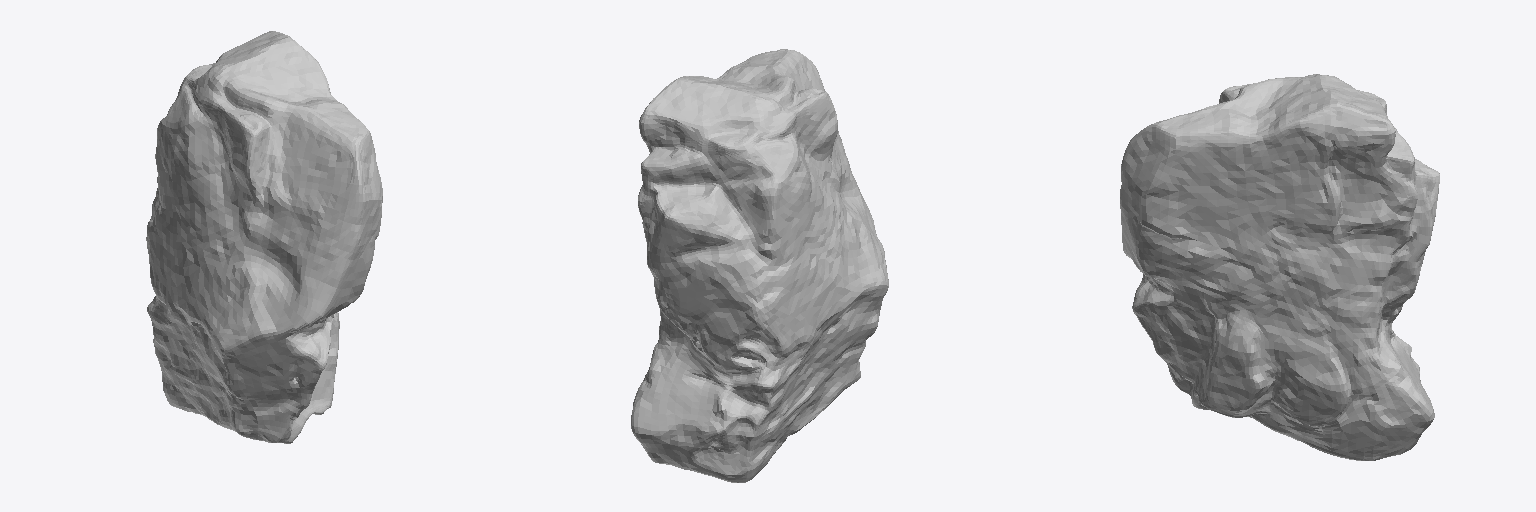
Rendered from Rock.obj.
The picture shows the model from 3 angles: view 1: azimuth 30°, elevation 25°; view 2: azimuth 150°, elevation 25°; view 3: azimuth 270°, elevation 25°; orthographic projection.
Parts seen in each view (by area): view 1: Rock_9; view 2: Rock_9; view 3: Rock_9.
Boxes of the visible parts, <box> form: Rock_9: <box>146,31,382,443</box>; Rock_9: <box>631,49,888,482</box>; Rock_9: <box>1120,74,1439,460</box>.
Bounding box in the file's own units: 4.93 × 11.01 × 8.77.